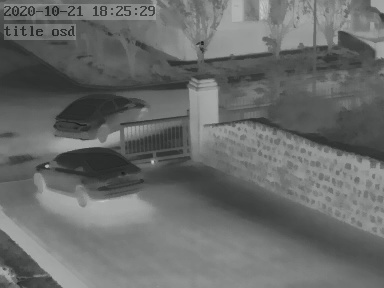vehicle: (36, 146, 142, 204), (54, 91, 148, 142)
